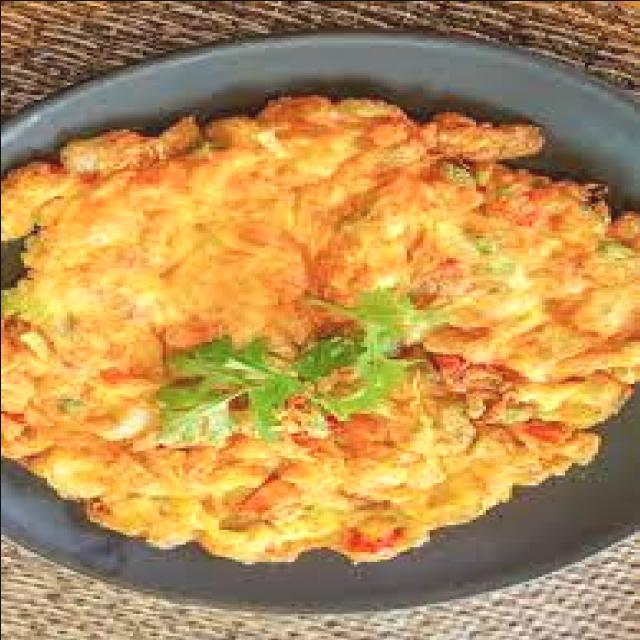telur dadar: (0, 86, 640, 563)
